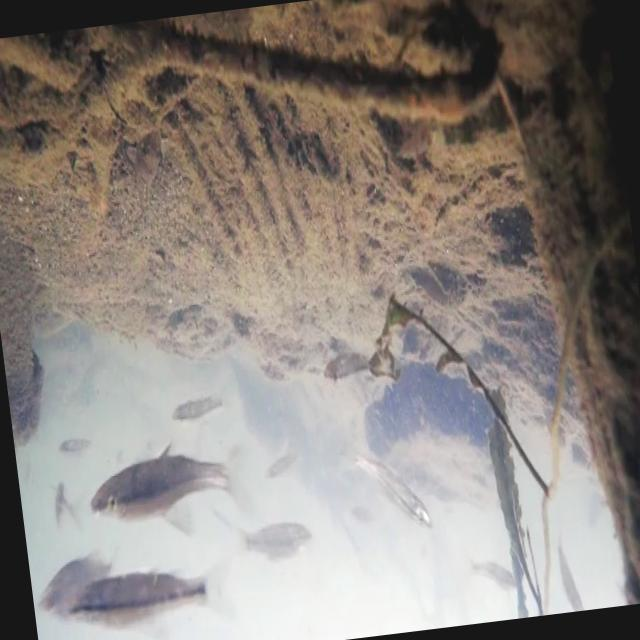Cakil Baligi: (77, 434, 254, 540), (62, 549, 245, 640), (346, 434, 436, 543)
